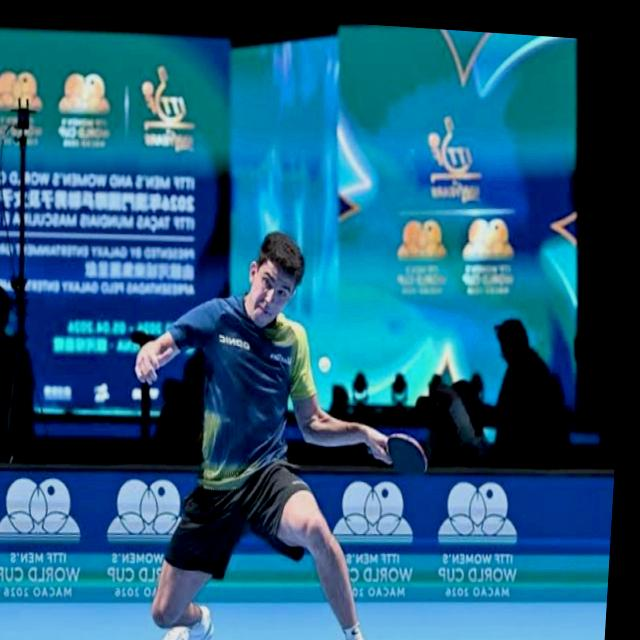TT Racket: (382, 426, 437, 481)
